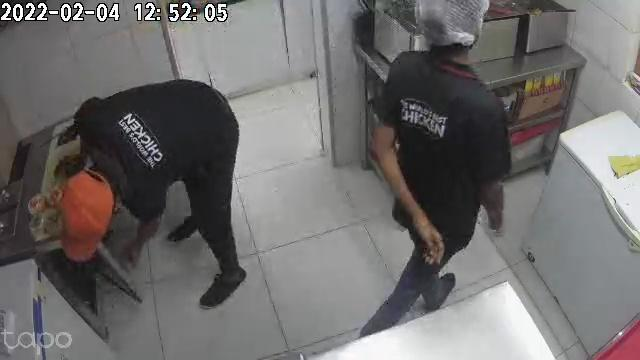no_gloves: (408, 202, 444, 266)
